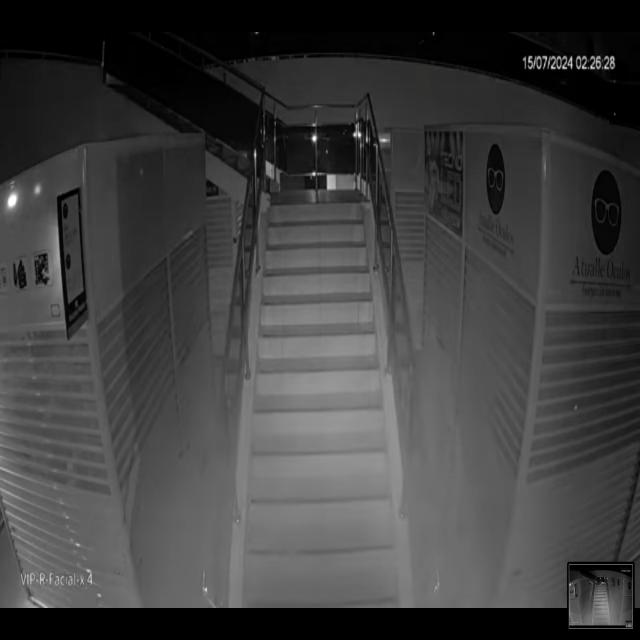Atencao: (164, 316, 536, 601)
